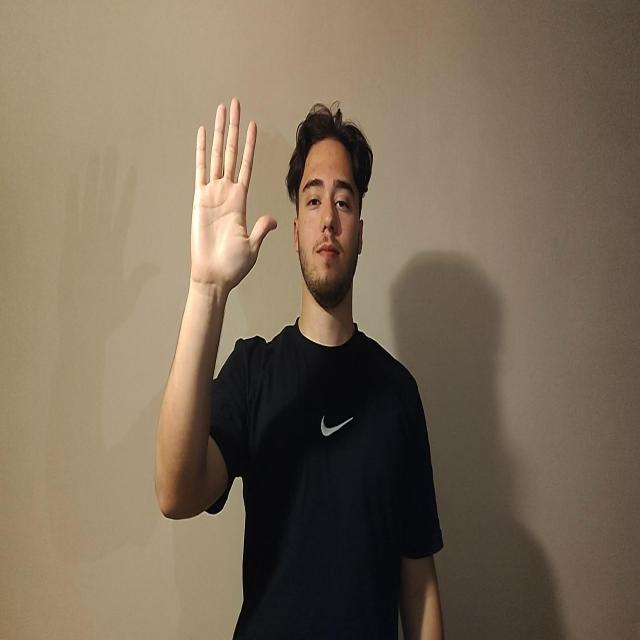hello: (189, 96, 277, 294)
